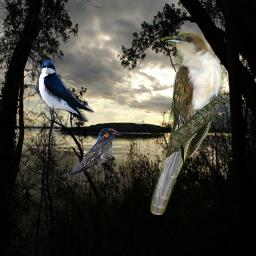Cuckoo: (150, 32, 224, 215)
Swallow: (37, 60, 94, 122), (67, 128, 121, 175)
